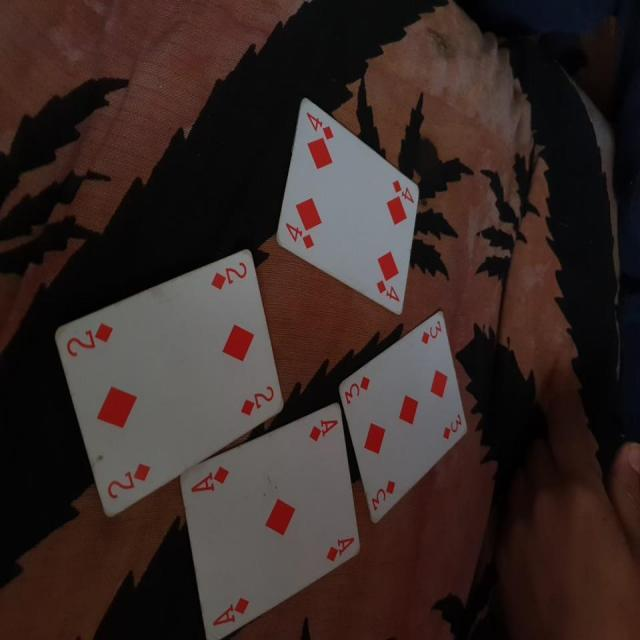2 of diamonds: (54, 246, 290, 521)
3 of diamonds: (333, 312, 470, 526)
4 of diamonds: (274, 96, 422, 322)
ace of diamonds: (168, 393, 362, 630)
